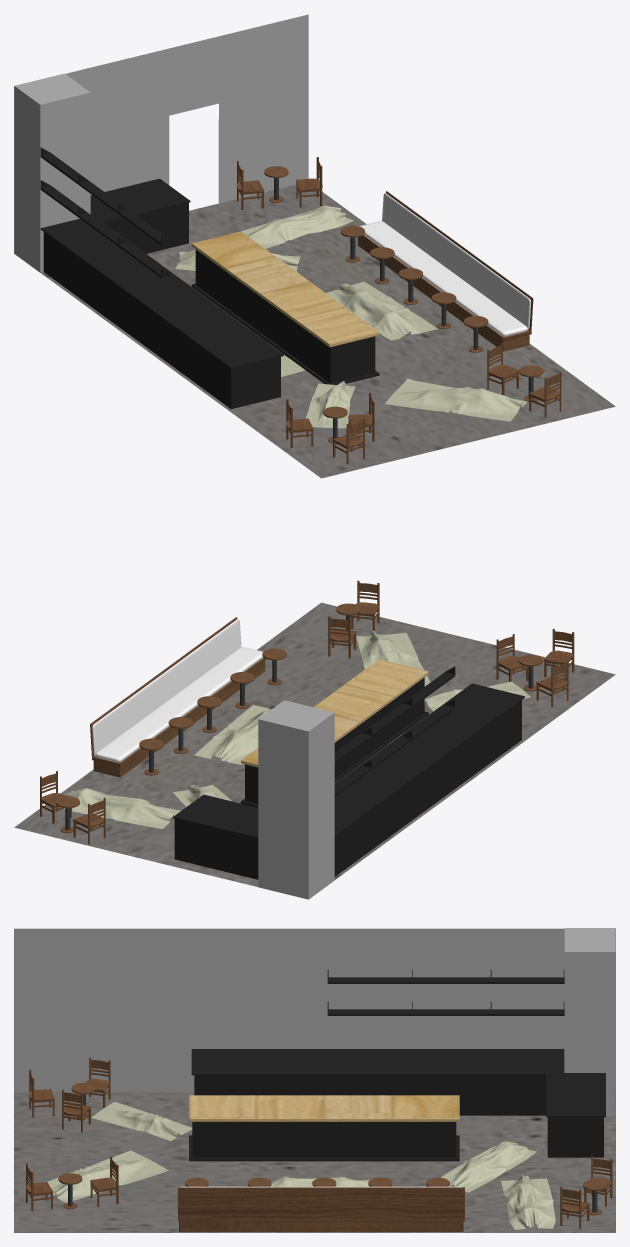
The model's file is fullShop_powerof2.gltf.
The picture shows the model from 3 angles, top to bottom: view 1: azimuth 30°, elevation 25°; view 2: azimuth 150°, elevation 25°; view 3: azimuth 270°, elevation 25°; orthographic projection. The views are drawn at different scales.
Visible parts, largest first — view 1: bar1:PIV; view 2: bar1:PIV; view 3: bar1:PIV.
Boxes of the visible parts, x1,y1,x2,y2 form: bar1:PIV: [14, 14, 615, 478]; bar1:PIV: [14, 580, 615, 899]; bar1:PIV: [14, 928, 615, 1232].
Size of the model in its own units: 139 by 75.45 by 250.
10 materials, 6 textured.
